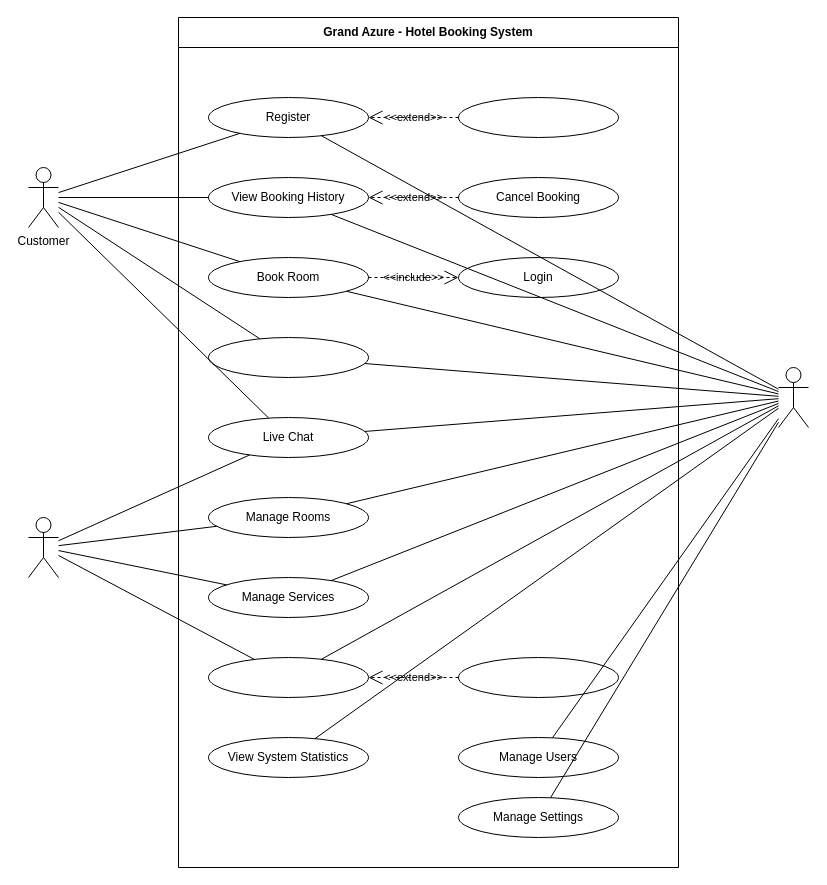
This 827x885 diagram has some shape labels left out. Each missing label, with the box of its shape:
Admin: (778, 366, 808, 428)
Browse Rooms: (208, 336, 368, 378)
Manage Bookings: (208, 656, 368, 698)
Manager: (28, 516, 58, 578)
Send Email Notification: (458, 656, 618, 698)
Subscribe to Premium: (458, 96, 618, 138)
